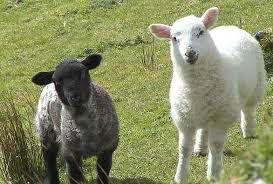koyun: (149, 7, 267, 183), (33, 54, 119, 183)
